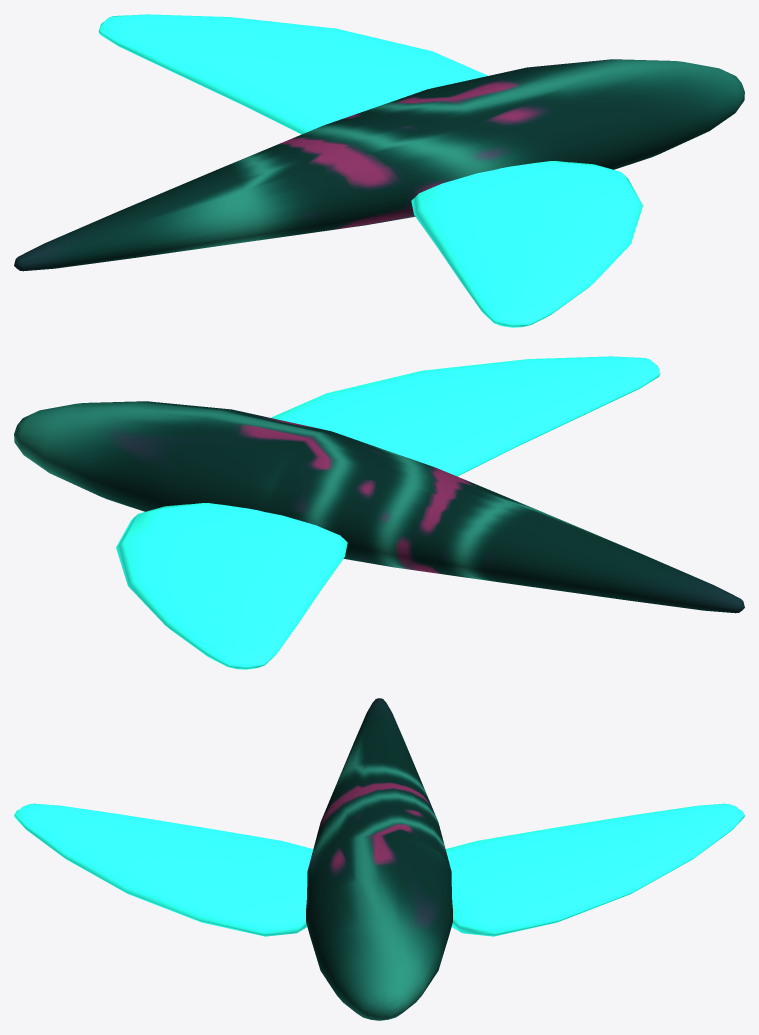
The model's file is alien_fish_2.glb.
3 renders of one model, top to bottom at view 1: azimuth 30°, elevation 25°; view 2: azimuth 150°, elevation 25°; view 3: azimuth 270°, elevation 25°, orthographic. The views are drawn at different scales.
Visible parts, largest first — view 1: fish2_body; view 2: fish2_body; view 3: fish2_body.
Boxes of the visible parts, bbox=[...] form: fish2_body: bbox=[14, 14, 744, 327]; fish2_body: bbox=[14, 356, 744, 669]; fish2_body: bbox=[14, 698, 744, 1020].
Bounding box in the file's own units: 1.14 × 0.1502 × 1.14.
2 materials, 1 textured.
